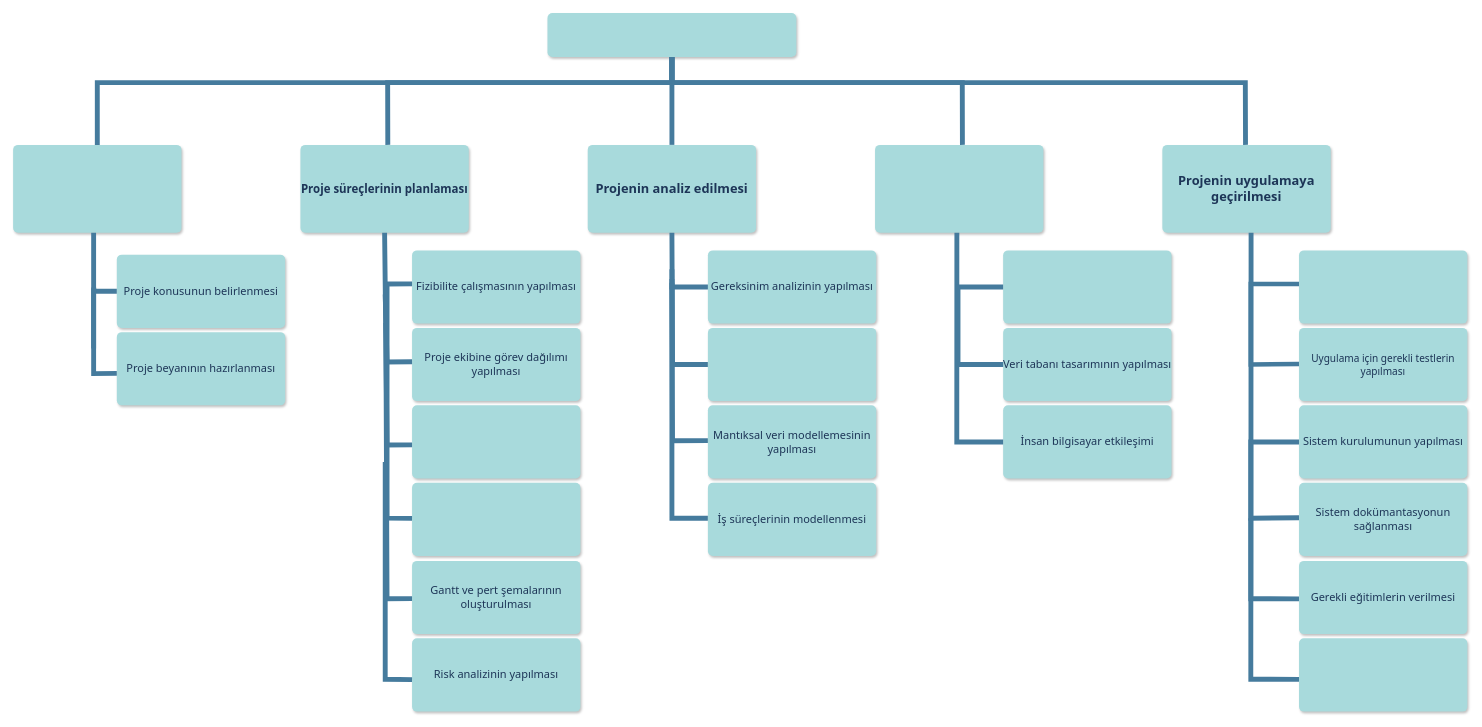
This 1482x727 diagram has some shape labels left out. The shapes that lost their labels are listed below. From the top down, each one's centre as x and y in pixels, then its label:
At point 672,35: "MEDVITAL".
At point 97,189: "Proje yönetim ve organizasyonu".
At point 959,189: "Proje için gerekli tasarımların yapılması".
At point 1087,287: "Sistem mimarisinin tasarlanması".
At point 1383,287: "Uygulamanın kodlanması".
At point 792,365: "Veri modellemesinin yapılması".
At point 496,442: "İş paketlerinin belirlenmesi".
At point 496,520: "İş kırılımının yapılması".
At point 1383,675: "Onarım hizmetlerinin verilmesi".
